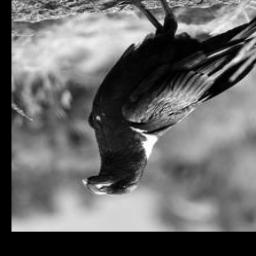Crow: (76, 0, 256, 201)
